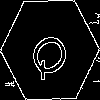Q: (25, 25, 79, 83)
